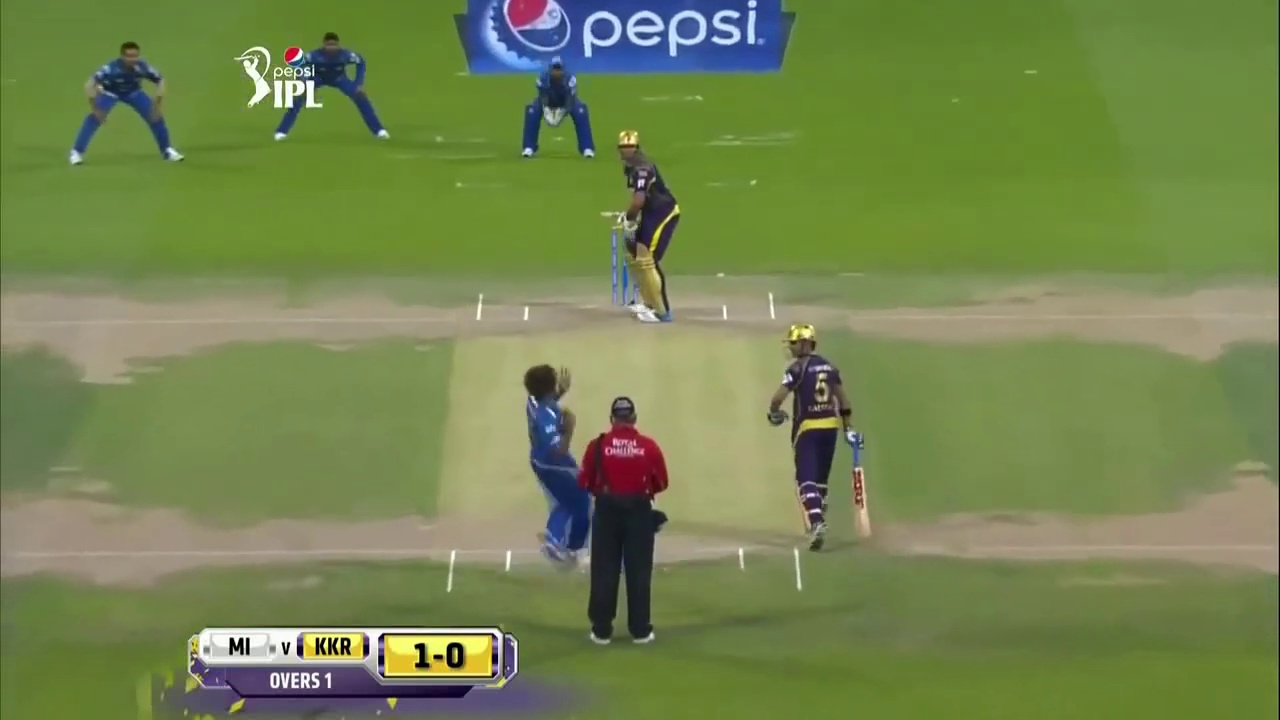bat: (848, 431, 876, 540)
stumps: (611, 225, 623, 304)
